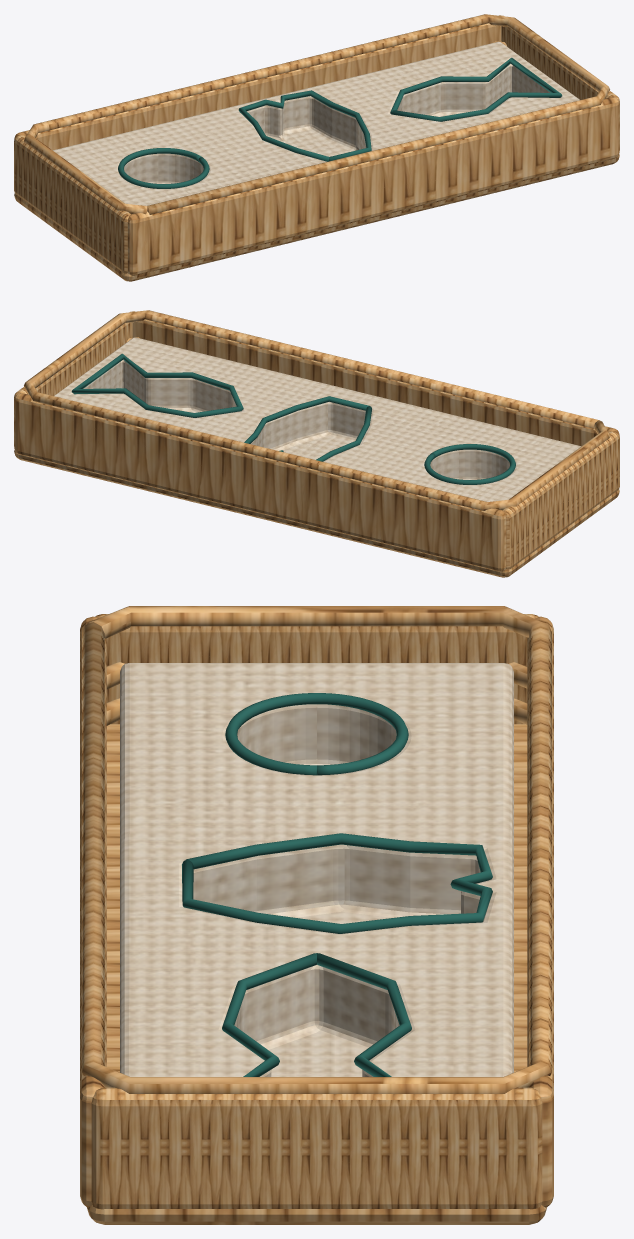
File: basket.glb
3 views of the same model, one above another, from view 1: azimuth 30°, elevation 25°; view 2: azimuth 150°, elevation 25°; view 3: azimuth 270°, elevation 25° (orthographic). The views are drawn at different scales.
Visible parts, largest first — view 1: Cream fitted insert, Basket side.001, Basket woven rim, Basket side, Basket end.001, Wicker basket base, fish socket piping, Basket end, mouse socket piping, ball socket piping; view 2: Cream fitted insert, Basket side, Basket woven rim, Basket side.001, Basket end.001, Wicker basket base, fish socket piping, Basket end, mouse socket piping, ball socket piping; view 3: Cream fitted insert, Basket end, Basket woven rim, Wicker basket base, Basket end.001, mouse socket piping, fish socket piping, ball socket piping, Basket side, Basket side.001.
Part boxes in pixels (x1,y1,x2,y2): Cream fitted insert: (53,41,579,205); Basket side.001: (127,97,619,275); Basket woven rim: (24,14,609,214); Basket side: (14,15,503,150); Basket end.001: (14,135,130,273); Wicker basket base: (14,154,619,281); fish socket piping: (390,57,562,121); Basket end: (501,26,619,150); mouse socket piping: (238,90,371,161); ball socket piping: (118,148,209,188); Cream fitted insert: (54,337,580,501); Basket side: (14,393,506,571); Basket woven rim: (24,310,609,510); Basket side.001: (130,311,619,446); Basket end.001: (503,431,619,569); Wicker basket base: (14,450,619,577); fish socket piping: (71,353,243,417); Basket end: (14,322,132,446); mouse socket piping: (244,396,371,461); ball socket piping: (424,444,515,484); Cream fitted insert: (120,663,513,1076); Basket end: (91,1087,542,1209); Basket woven rim: (82,606,551,1093); Wicker basket base: (87,724,546,1224); Basket end.001: (95,614,538,724); mouse socket piping: (182,833,492,933); fish socket piping: (222,953,411,1076); ball socket piping: (225,693,408,775); Basket side: (527,616,553,1207); Basket side.001: (80,616,106,1207).
Bounding box in the file's own units: 1.72 × 0.242 × 0.71.
3 materials, 2 textured.
